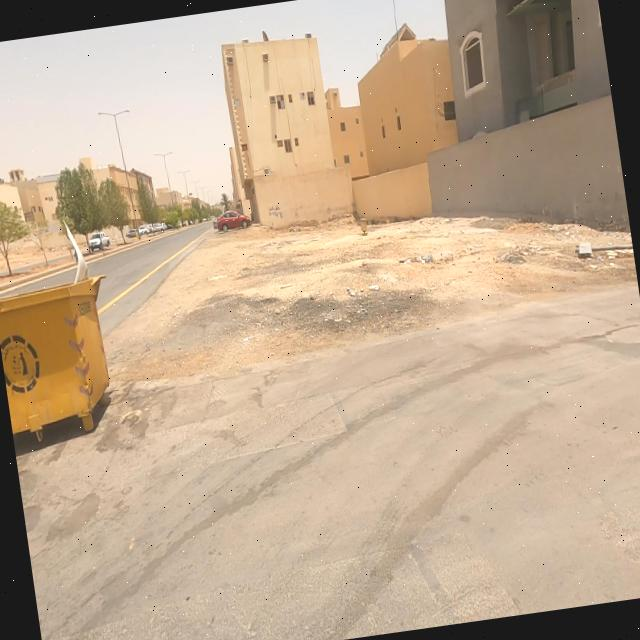Graffiti: (268, 204, 285, 222)
